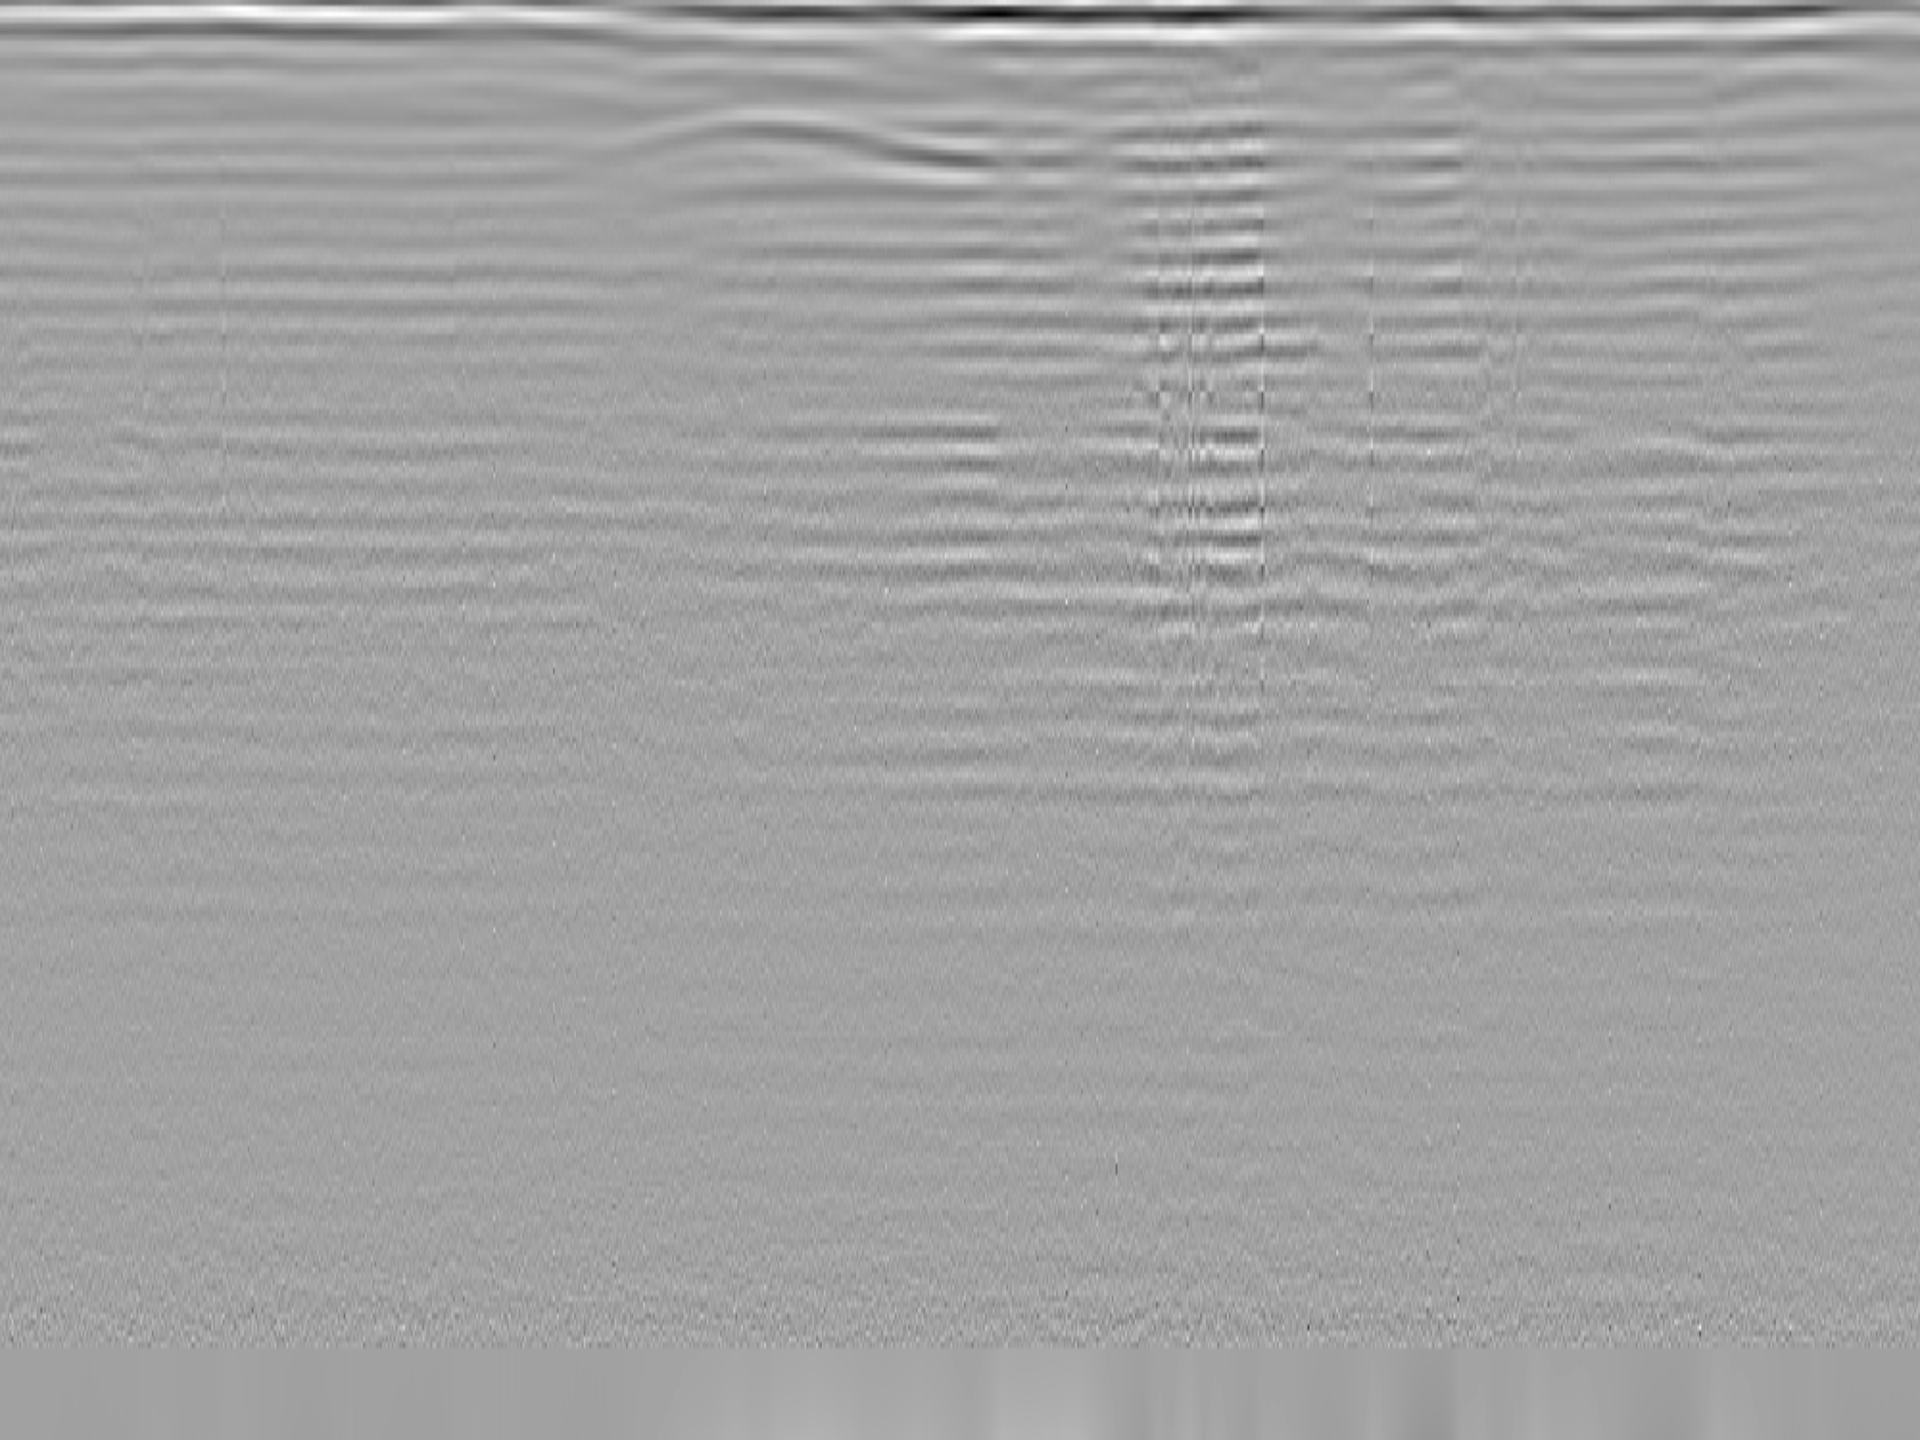Tunnel: (549, 106, 1002, 169)
